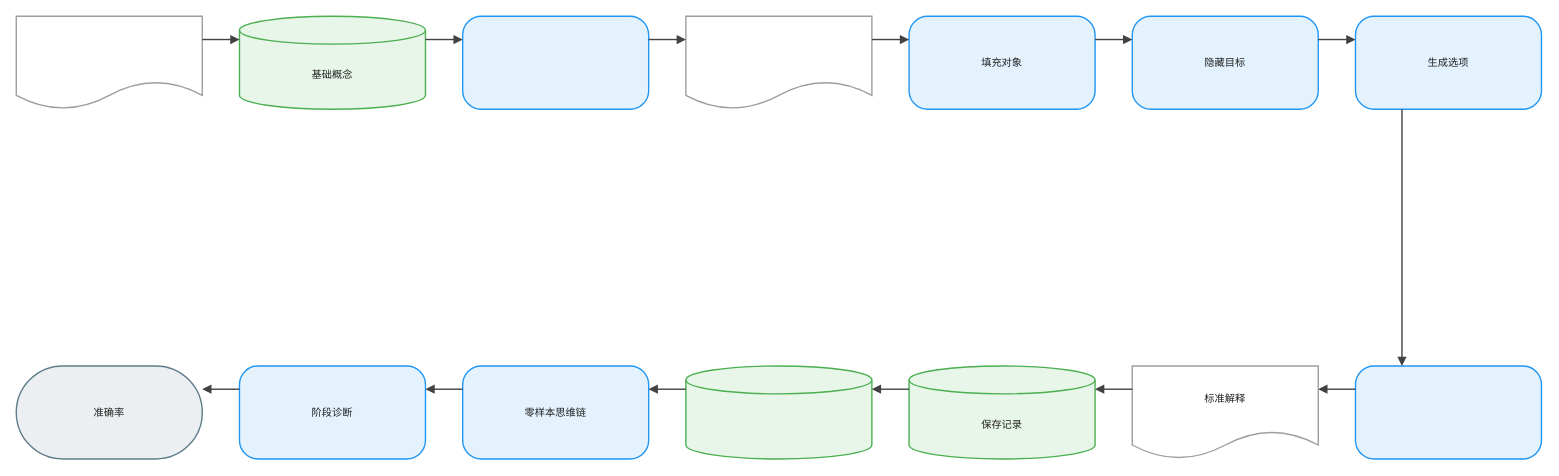
The diagram is 1559 pixels wide and 476 high, and some of its shapes have lost their labels. Here are the shapes that lost their labels. From the top down, the centre of each, then its label:
At (109,62): "认知目标".
At (555,62): "谜题分类".
At (778,62): "设计模板".
At (778,412): "2000道测试".
At (1448,412): "渲染图像".
